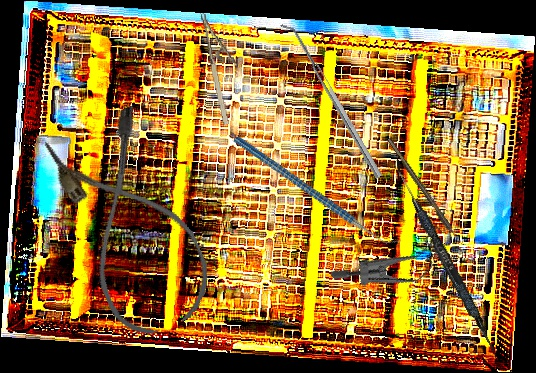Cannula: (40, 102, 224, 346)
Chopper: (232, 94, 403, 287)
Hook Surgical: (386, 137, 462, 245)
Needle Holder: (200, 8, 248, 126)
Spatula Surgical: (386, 159, 506, 360), (279, 18, 383, 183)
Speculum: (329, 194, 460, 324)
